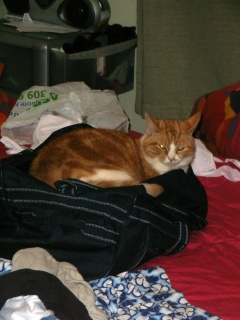Cat: (28, 109, 201, 197)
